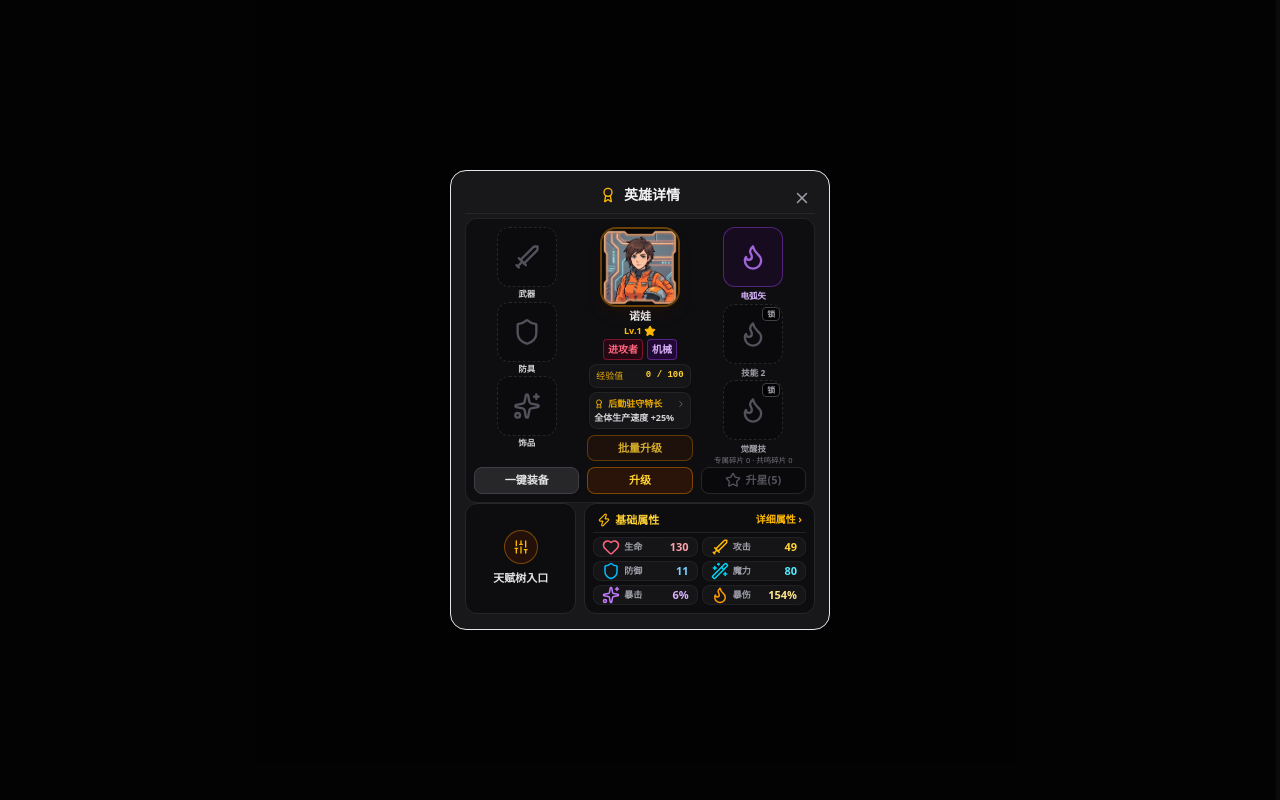
Test: 英雄详情弹窗 ↔ 技能弹窗联动 › 点击技能槽打开预览弹窗
Click the button titled "查看【电弧矢】".
click(753, 264)  # box [723,227,783,302]
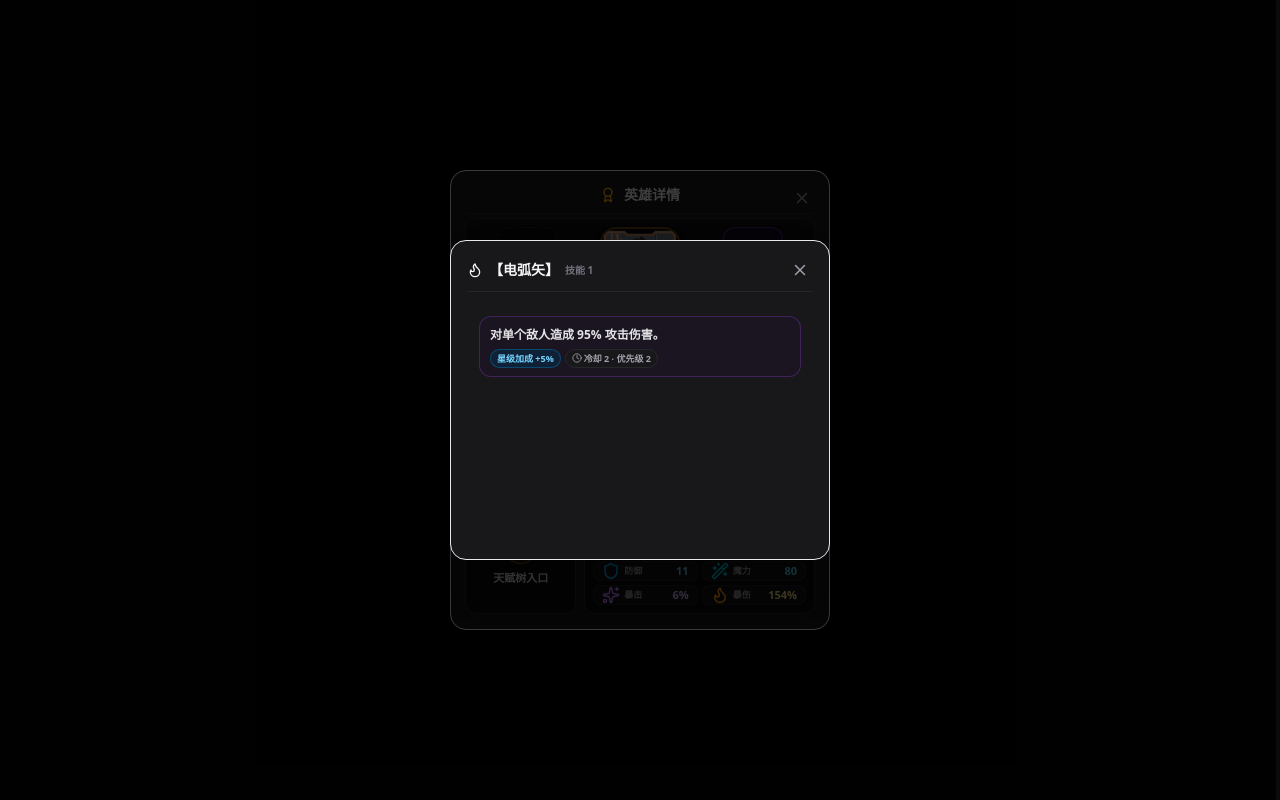
Expected: the text "攻击伤害" is shown, [490,326,665,343]
